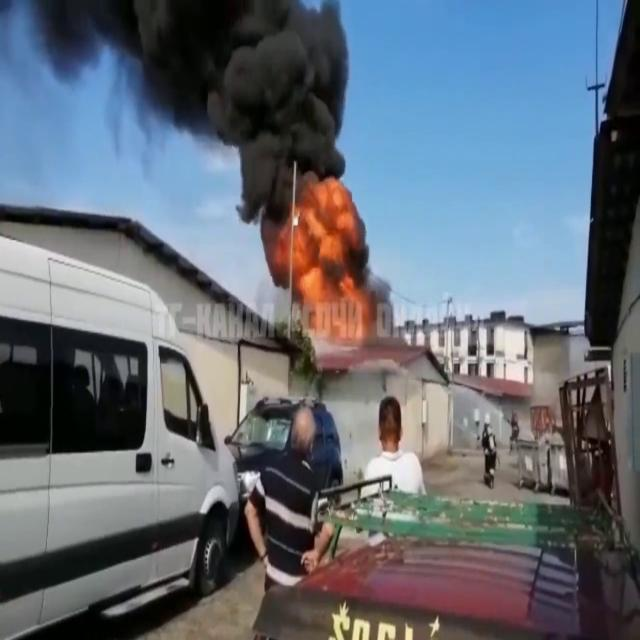Fire: (272, 182, 409, 358)
Smoke: (44, 0, 350, 217)
